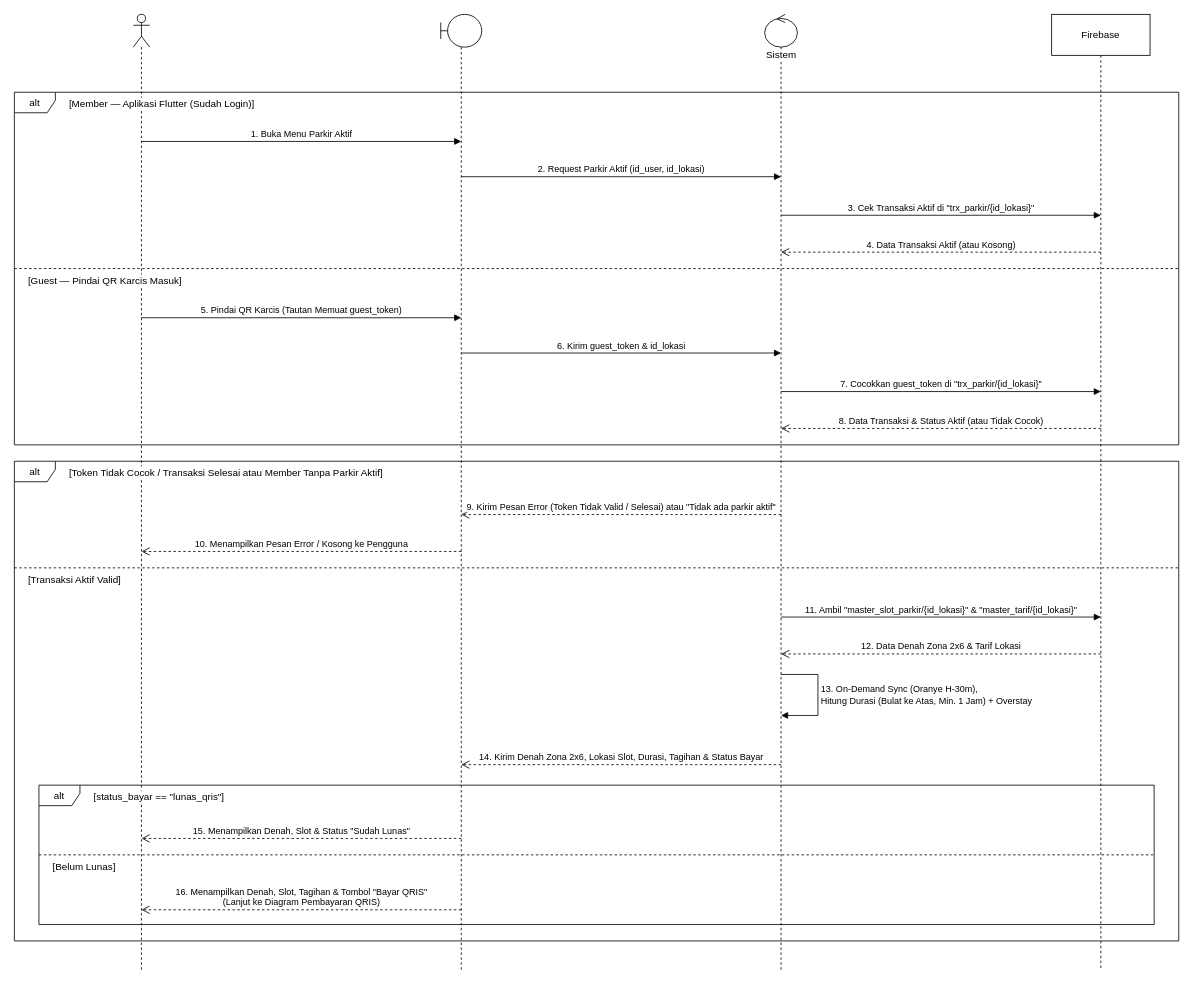
Some shapes in this 1194 by 984 pixel diagram are drawn without their labels. The box of each missing label's shape, as (x1, y1, x2, y2) in pixels:
Aplikasi Flutter / Web Karcis Tamu: (440, 14, 482, 970)
Member / Guest: (132, 14, 150, 970)
